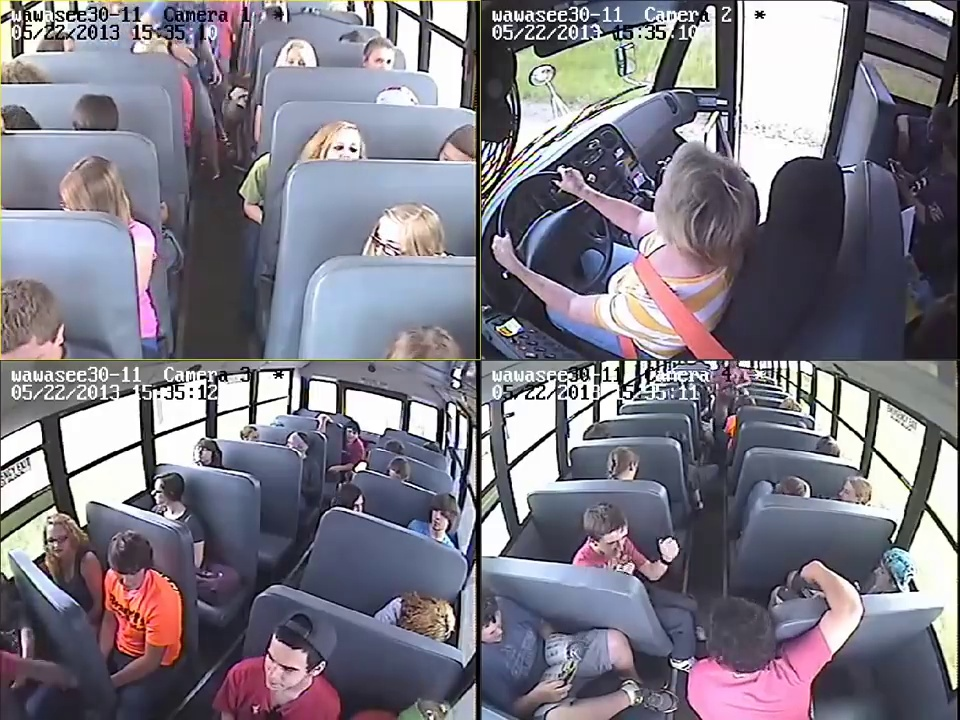face: (264, 634, 311, 691), (321, 128, 369, 160), (372, 225, 409, 254), (603, 528, 627, 556), (369, 44, 394, 65), (191, 440, 213, 463), (150, 479, 169, 505), (430, 505, 448, 532), (343, 425, 357, 441)
